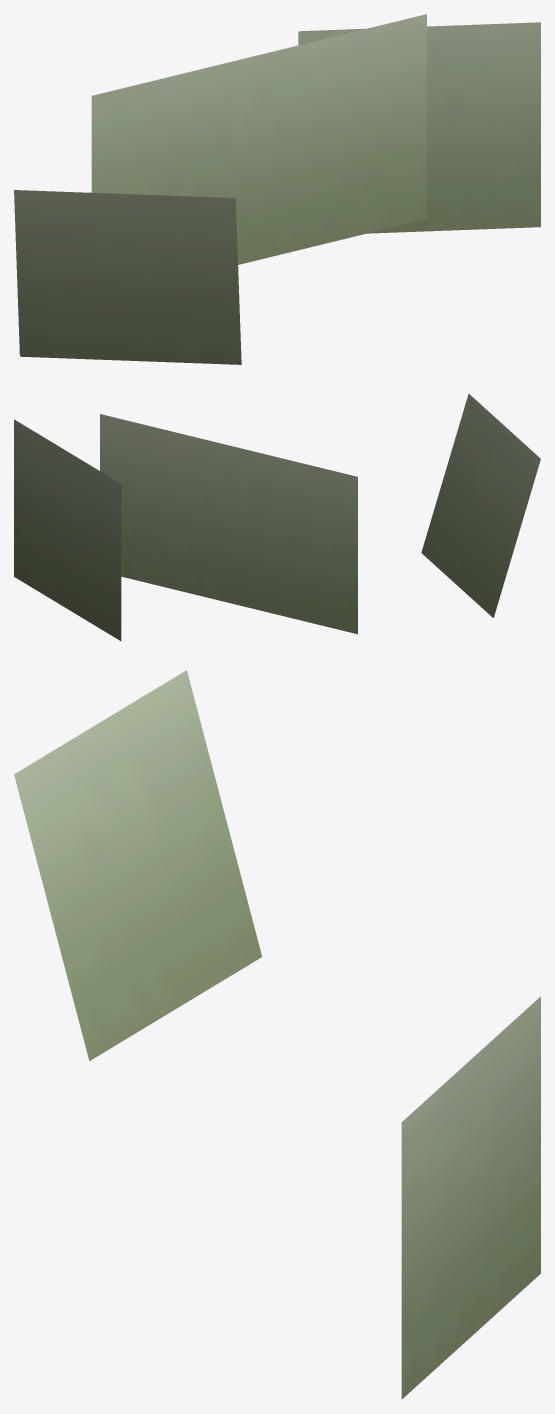
The model's file is Grass.fbx.
3 views of the same model, one above another, from view 1: azimuth 30°, elevation 25°; view 2: azimuth 150°, elevation 25°; view 3: azimuth 270°, elevation 25° (orthographic). The views are drawn at different scales.
Visible parts, largest first — view 1: Grass; view 2: Grass; view 3: Grass.
Boxes of the visible parts, x1,y1,x2,y2 form: Grass: (14,14,540,364); Grass: (14,394,540,640); Grass: (14,670,540,1399).
Size of the model in its own units: 146 by 56.01 by 81.24.
Materials: 1 (1 with a texture image).
